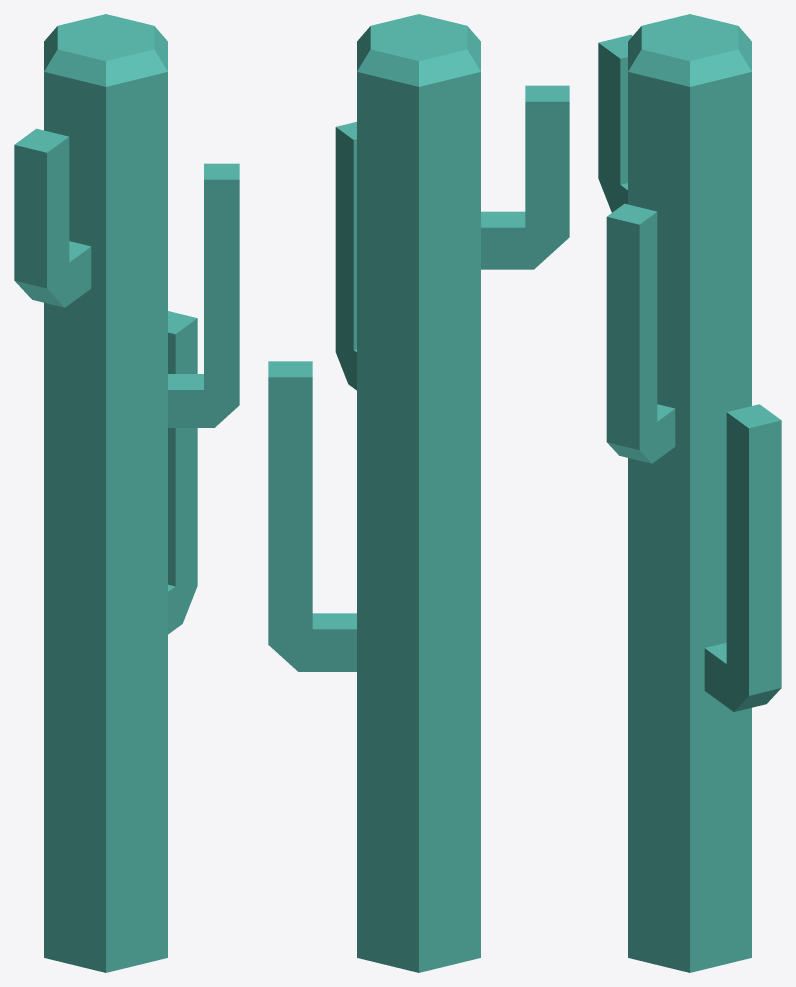
Rendered from cactus_tall.fbx.
3 renders of one model, left to right at view 1: azimuth 30°, elevation 25°; view 2: azimuth 150°, elevation 25°; view 3: azimuth 270°, elevation 25°, orthographic.
Visible parts, largest first — view 1: cactus_tall; view 2: cactus_tall; view 3: cactus_tall.
Boxes of the visible parts, x1,y1,x2,y2 form: cactus_tall: (14,14,239,972); cactus_tall: (268,14,569,972); cactus_tall: (598,14,781,972).
Size of the model in its own units: 2.06 by 7.35 by 1.35.
